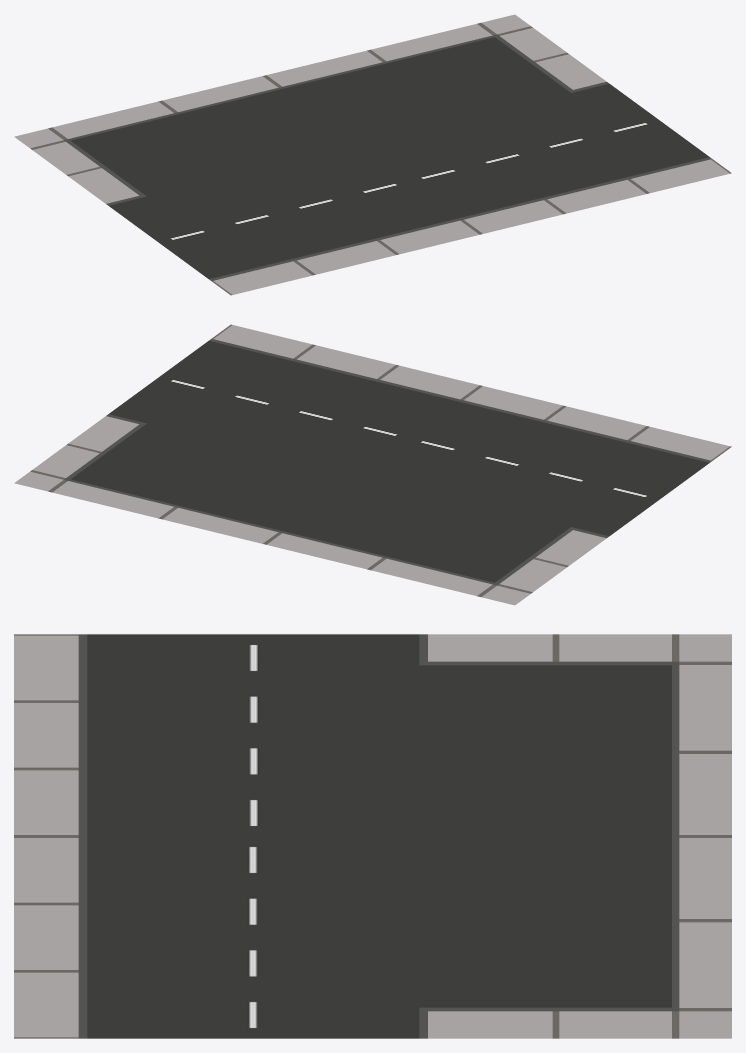
The model's file is road tile2.FBX.
3 renders of one model, top to bottom at view 1: azimuth 30°, elevation 25°; view 2: azimuth 150°, elevation 25°; view 3: azimuth 270°, elevation 25°, orthographic. The views are drawn at different scales.
Parts seen in each view (by area): view 1: road tile2; view 2: road tile2; view 3: road tile2.
Part boxes in pixels (x1=…): road tile2: x1=14, y1=14, x2=731, y2=295; road tile2: x1=14, y1=324, x2=731, y2=605; road tile2: x1=14, y1=634, x2=731, y2=1038.
Bounding box in the file's own units: 40 × 1.31e-06 × 30.
